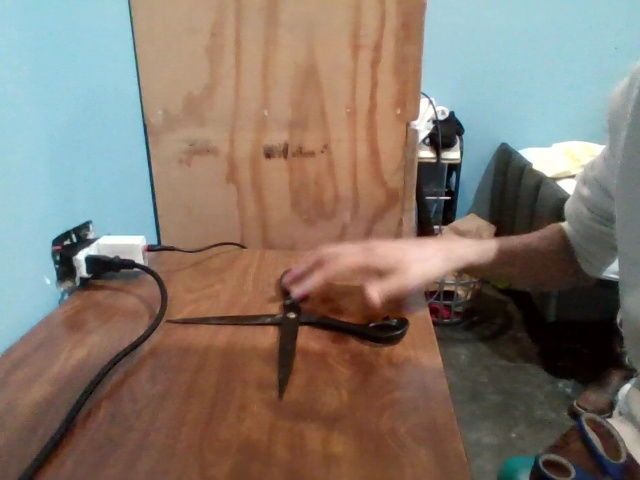tijeras: (167, 285, 410, 400), (534, 404, 638, 480)
